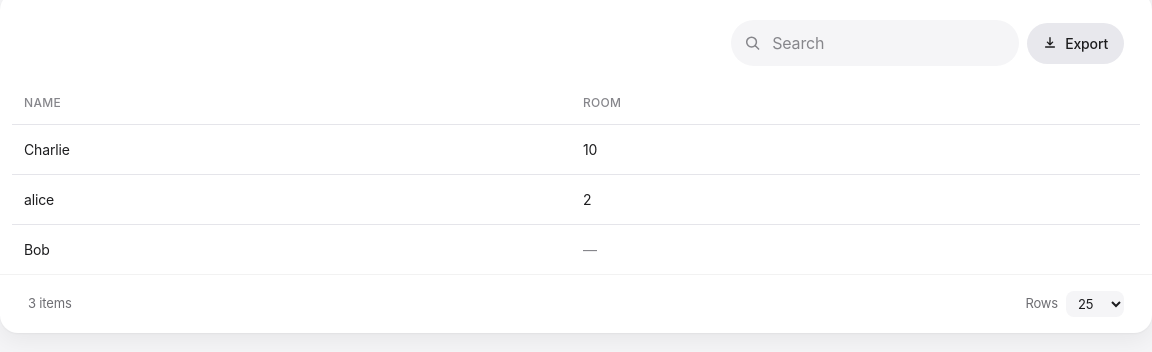
Test: DataTable › searches across columns and can clear the search
This screenshot has width=1152, height=352.
Later steps or results of the test are not shown.
Type "ALI" into the field named "Search table" at [875, 43], box [731,20,1019,66]
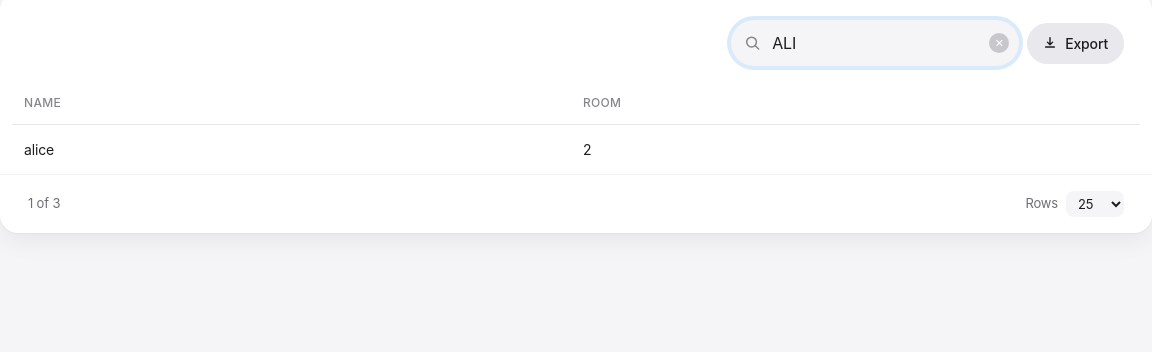
expect the text "1 of 3" is shown: met, box [28,194,60,214]
Replace the text in the field named "Search table" with "zzz" at [875, 43], box [731,20,1019,66]
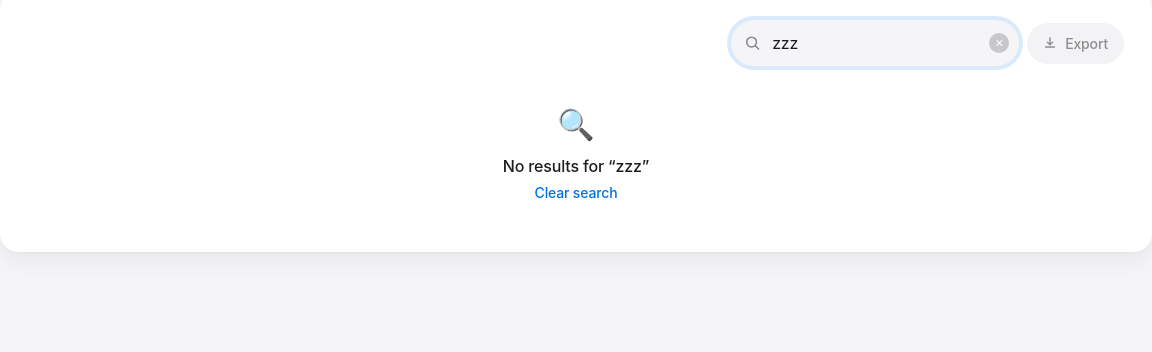
expect the text "No results for “zzz”" is shown: met, box [503,156,649,176]
